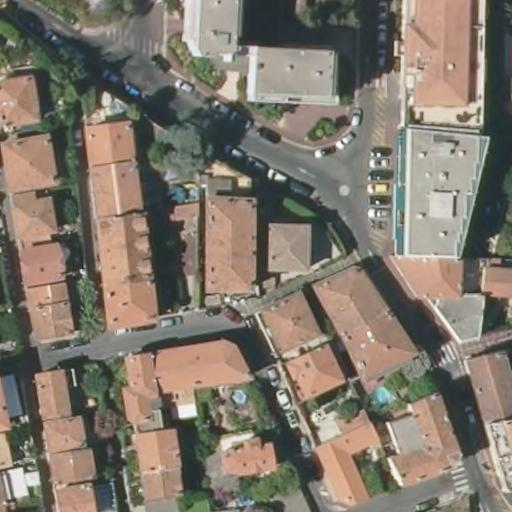pool: (370, 385, 391, 406), (228, 386, 248, 407)
